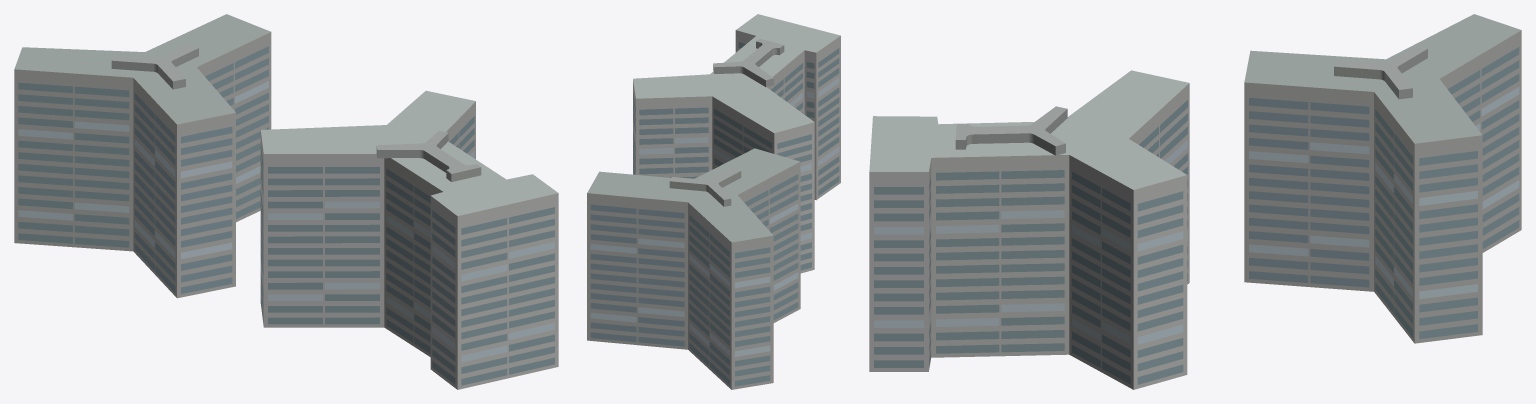
The model's file is apt-a15208005.glb.
3 renders of one model, left to right at view 1: azimuth 30°, elevation 25°; view 2: azimuth 150°, elevation 25°; view 3: azimuth 270°, elevation 25°, orthographic. The views are drawn at different scales.
Parts seen in each view (by area): view 1: apt-a15208005; view 2: apt-a15208005; view 3: apt-a15208005.
Part boxes in pixels (x1=…): apt-a15208005: x1=14, y1=14, x2=558, y2=389; apt-a15208005: x1=587, y1=14, x2=840, y2=389; apt-a15208005: x1=869, y1=14, x2=1521, y2=389.
Bounding box in the file's own units: 72.18 × 40 × 113.
